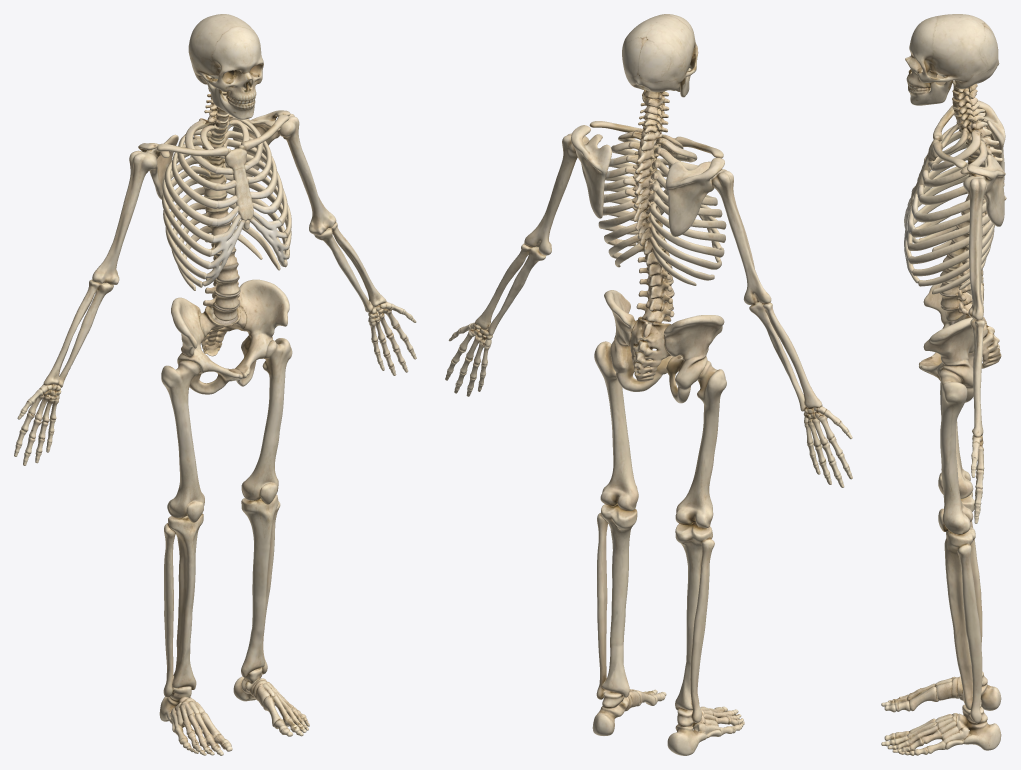
File: human-skeleton.glb
3 views of the same model, side by side, from view 1: azimuth 30°, elevation 25°; view 2: azimuth 150°, elevation 25°; view 3: azimuth 270°, elevation 25° (orthographic).
Parts seen in each view (by area): view 1: human-skeleton; view 2: human-skeleton; view 3: human-skeleton.
Part boxes in pixels (x1=…): human-skeleton: x1=14, y1=14, x2=416, y2=755; human-skeleton: x1=445, y1=14, x2=852, y2=755; human-skeleton: x1=881, y1=14, x2=1006, y2=755.
Size of the model in its own units: 1.05 by 1.75 by 0.2795.
Materials: 1 (1 with a texture image).
